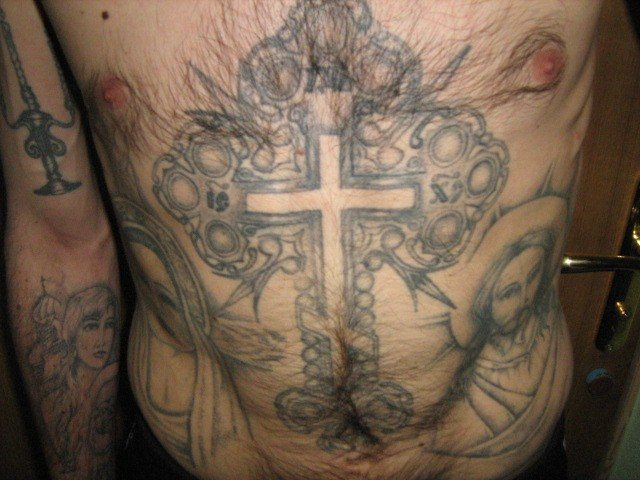tatu9_krest: (170, 7, 487, 428)
